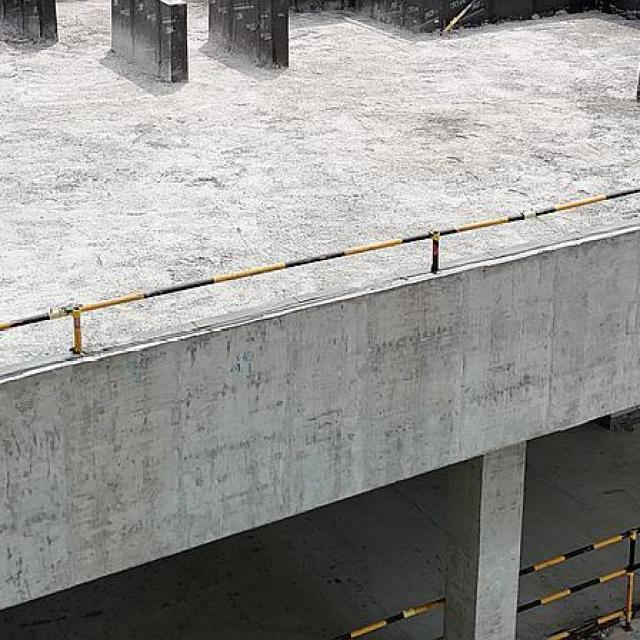edge_guardrail: (0, 185, 640, 356), (515, 525, 640, 640), (329, 594, 445, 640), (442, 0, 476, 34)
